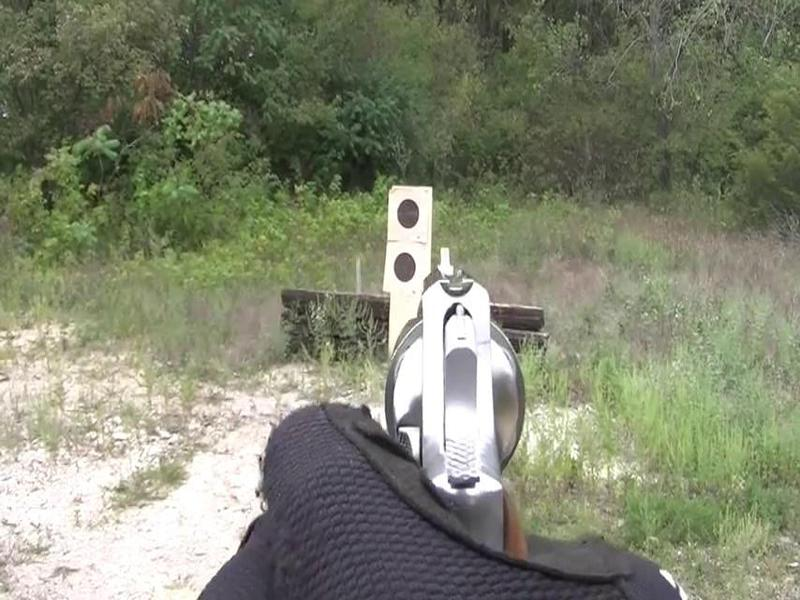Revolver: (358, 269, 540, 554)
